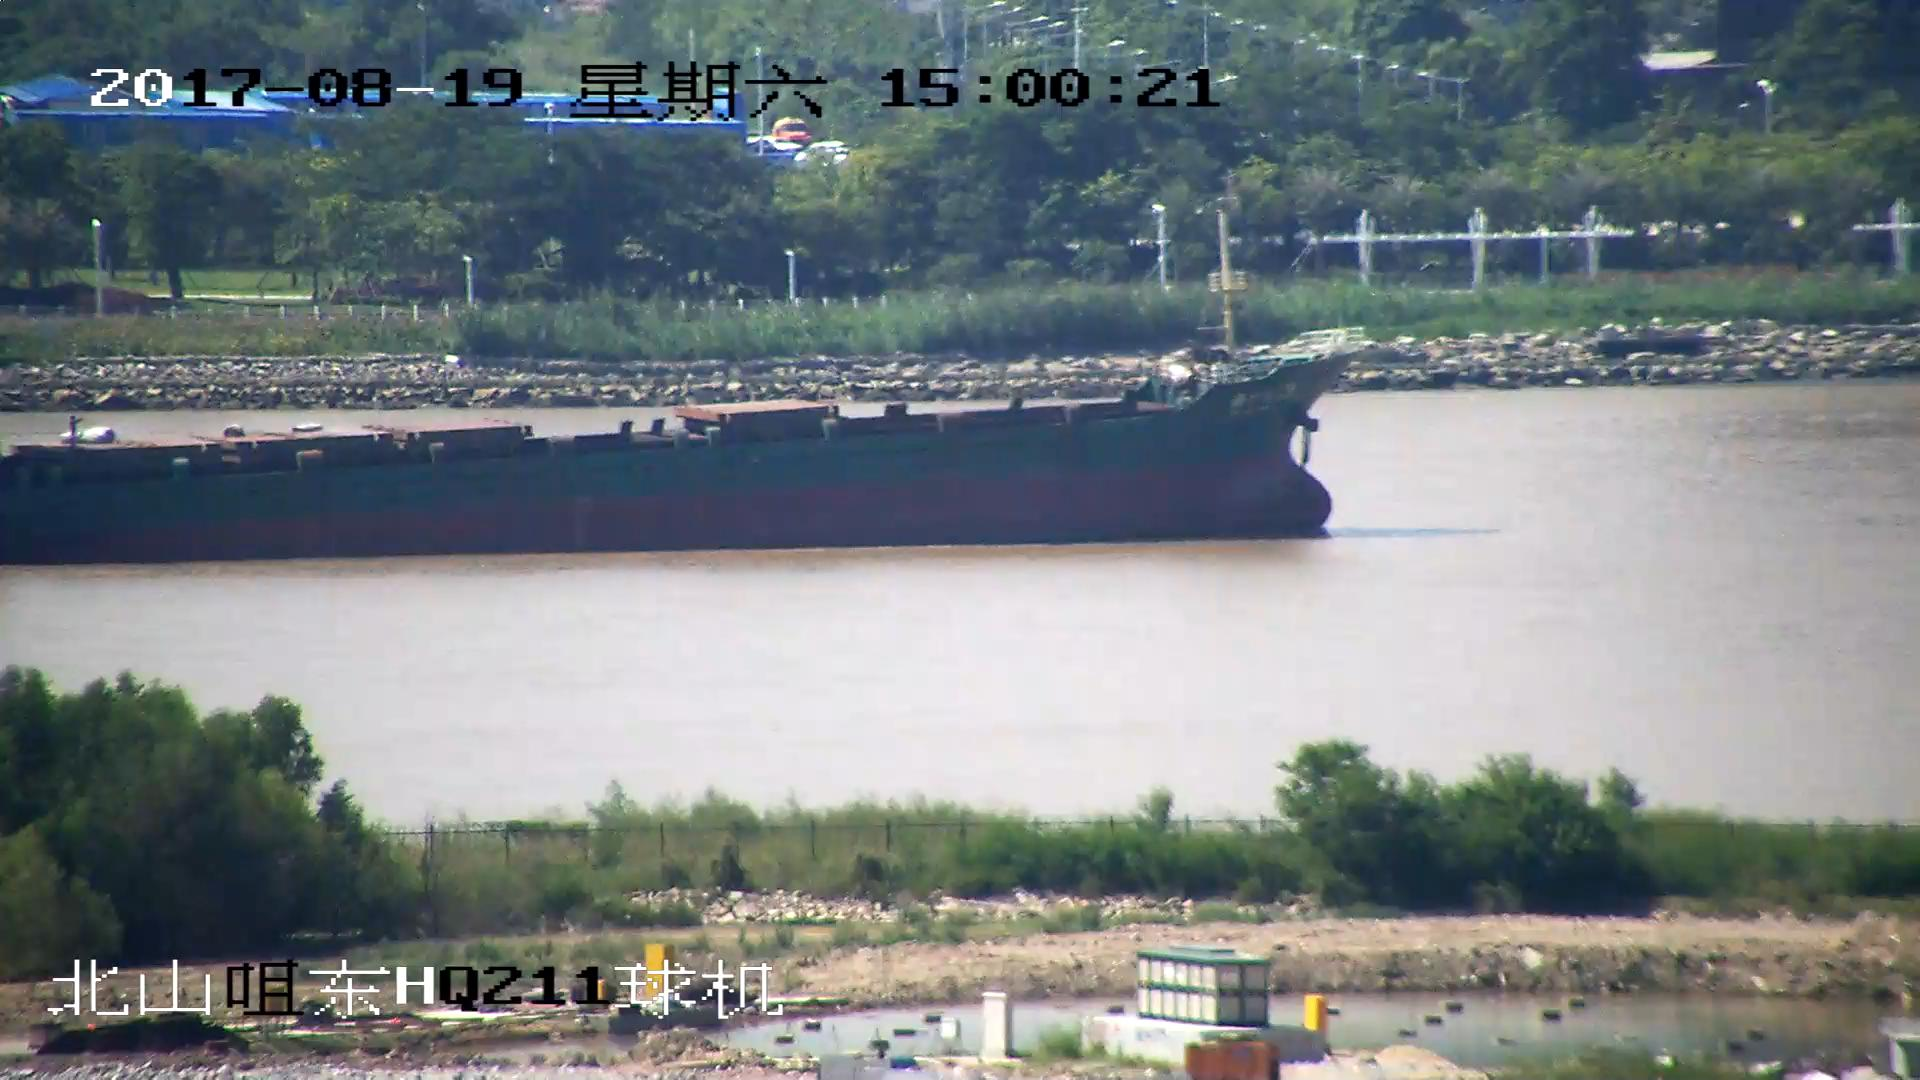general cargo ship: (1, 343, 1357, 558)
